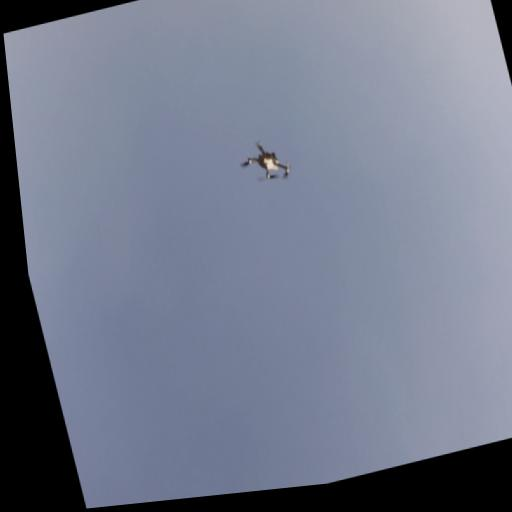drones: (231, 129, 299, 194)
